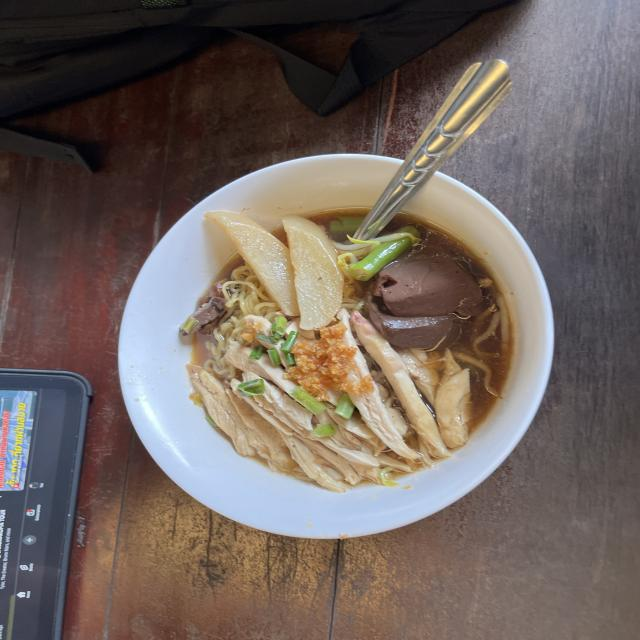noodle: (161, 194, 530, 496)
